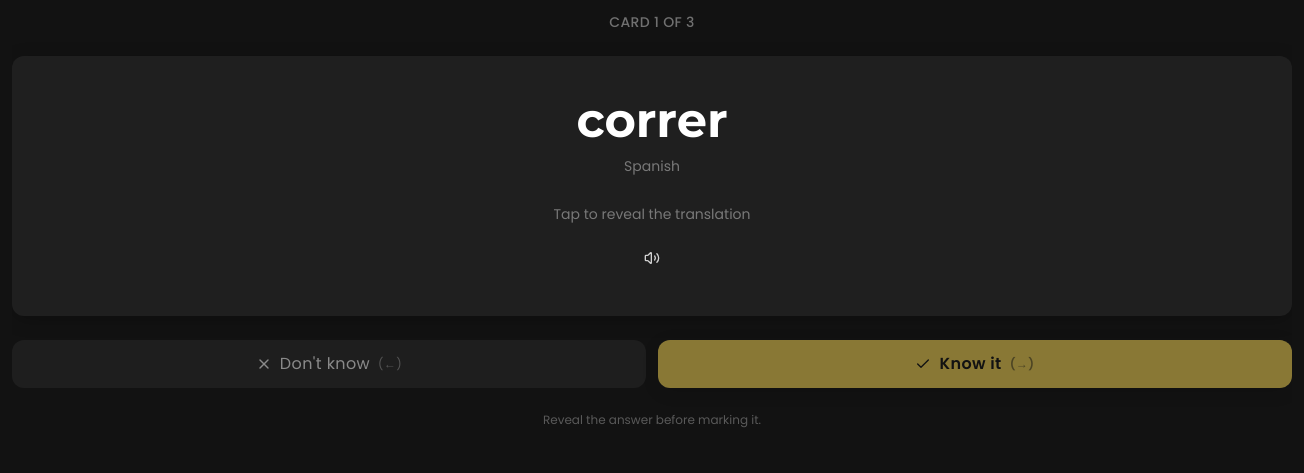
Scenario: FlashcardStack › hides the answer until the card is flipped
The image size is (1304, 473).
Expected: the text "to run" is not shown
Step 1. Click the button "correr Spanish Tap to reveal the translation" → (652, 160), box [52, 96, 1252, 224]
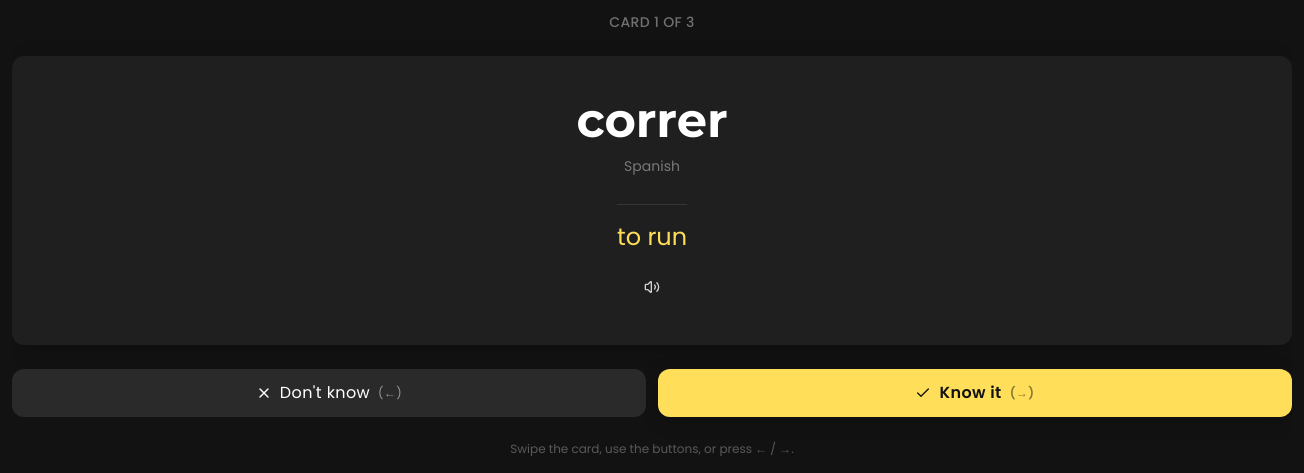
Expected: the text "to run" is shown, [617, 204, 687, 253]
